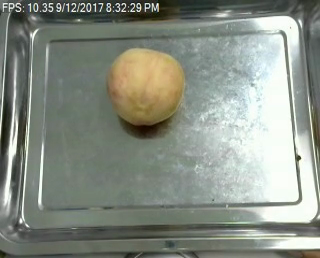Peach: (106, 46, 185, 125)
